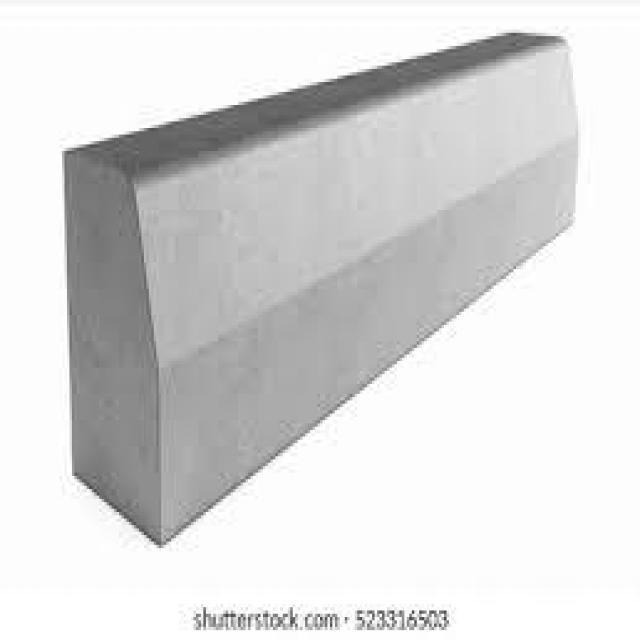curb: (61, 32, 582, 550)
